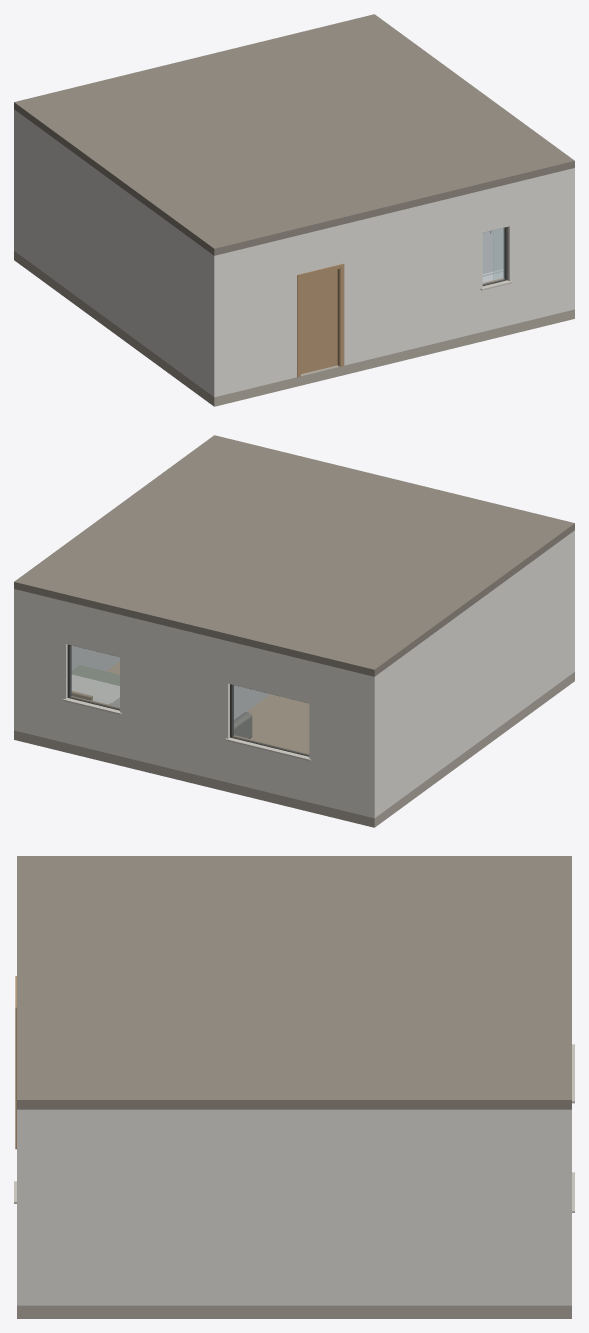
File: knob-flat.glb
The picture shows the model from 3 angles, top to bottom: view 1: azimuth 30°, elevation 25°; view 2: azimuth 150°, elevation 25°; view 3: azimuth 270°, elevation 25°; orthographic projection. The views are drawn at different scales.
Visible parts, largest first — view 1: roof:roof, wall:exterior, slab:slab, door:d_front, window:window_3:glass, door:d_front:casing, wall:r_bed|r_bath, furniture:shower_6, door:d_front:lining; view 2: roof:roof, wall:exterior, slab:slab, window:window_1:glass, floor:r_live, window:window_2:glass, furniture:bed_5, wall:r_live|r_bed; view 3: roof:roof, wall:exterior, slab:slab.
Part boxes in pixels (x1,y1,x2,y2): roof:roof: (14, 14, 574, 255); wall:exterior: (14, 109, 574, 397); slab:slab: (14, 251, 574, 406); door:d_front: (301, 269, 337, 373); window:window_3:glass: (483, 228, 504, 284); door:d_front:casing: (297, 263, 344, 377); wall:r_bed|r_bath: (482, 228, 503, 273); furniture:shower_6: (482, 228, 503, 282); door:d_front:lining: (300, 268, 340, 375); roof:roof: (14, 435, 574, 676); wall:exterior: (14, 530, 574, 818); slab:slab: (14, 672, 574, 827); window:window_1:glass: (232, 685, 308, 755); floor:r_live: (247, 694, 309, 753); window:window_2:glass: (70, 645, 119, 709); furniture:bed_5: (71, 665, 119, 706); wall:r_live|r_bed: (234, 685, 269, 718); roof:roof: (17, 856, 571, 1109); wall:exterior: (17, 1109, 571, 1305); slab:slab: (17, 1305, 571, 1318).
Bounding box in the file's own units: 8 × 3.35 × 7.78.
